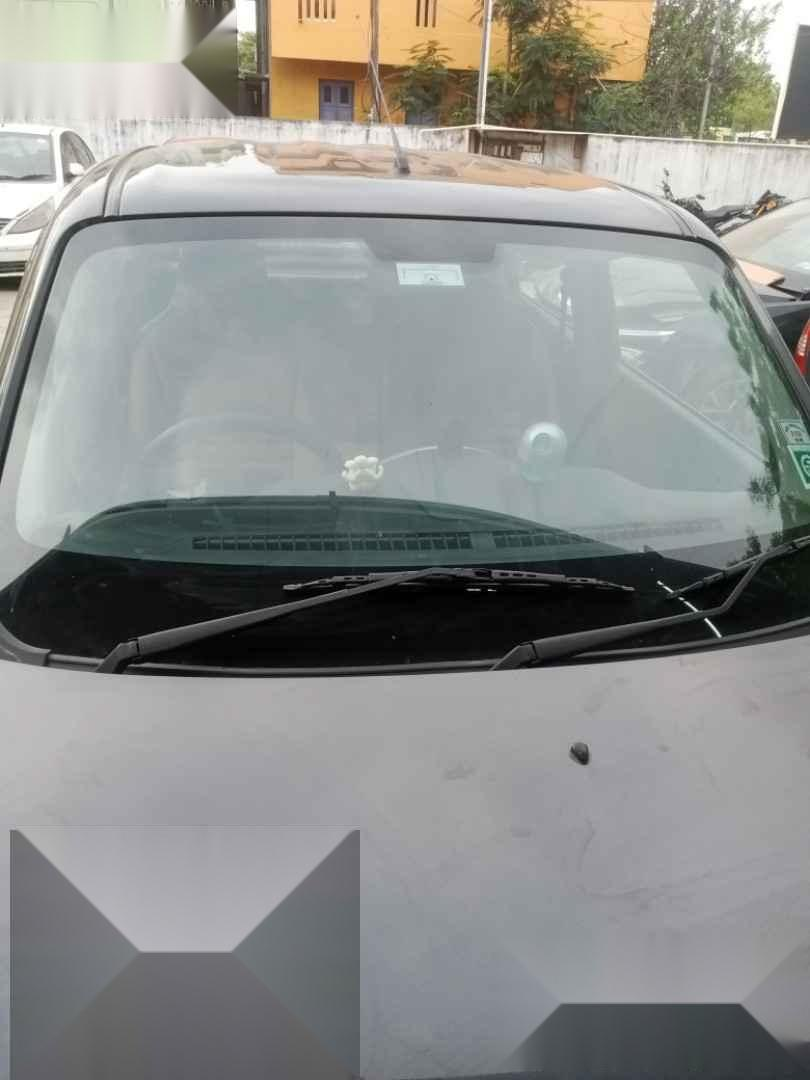FastTag: (383, 244, 481, 297)
